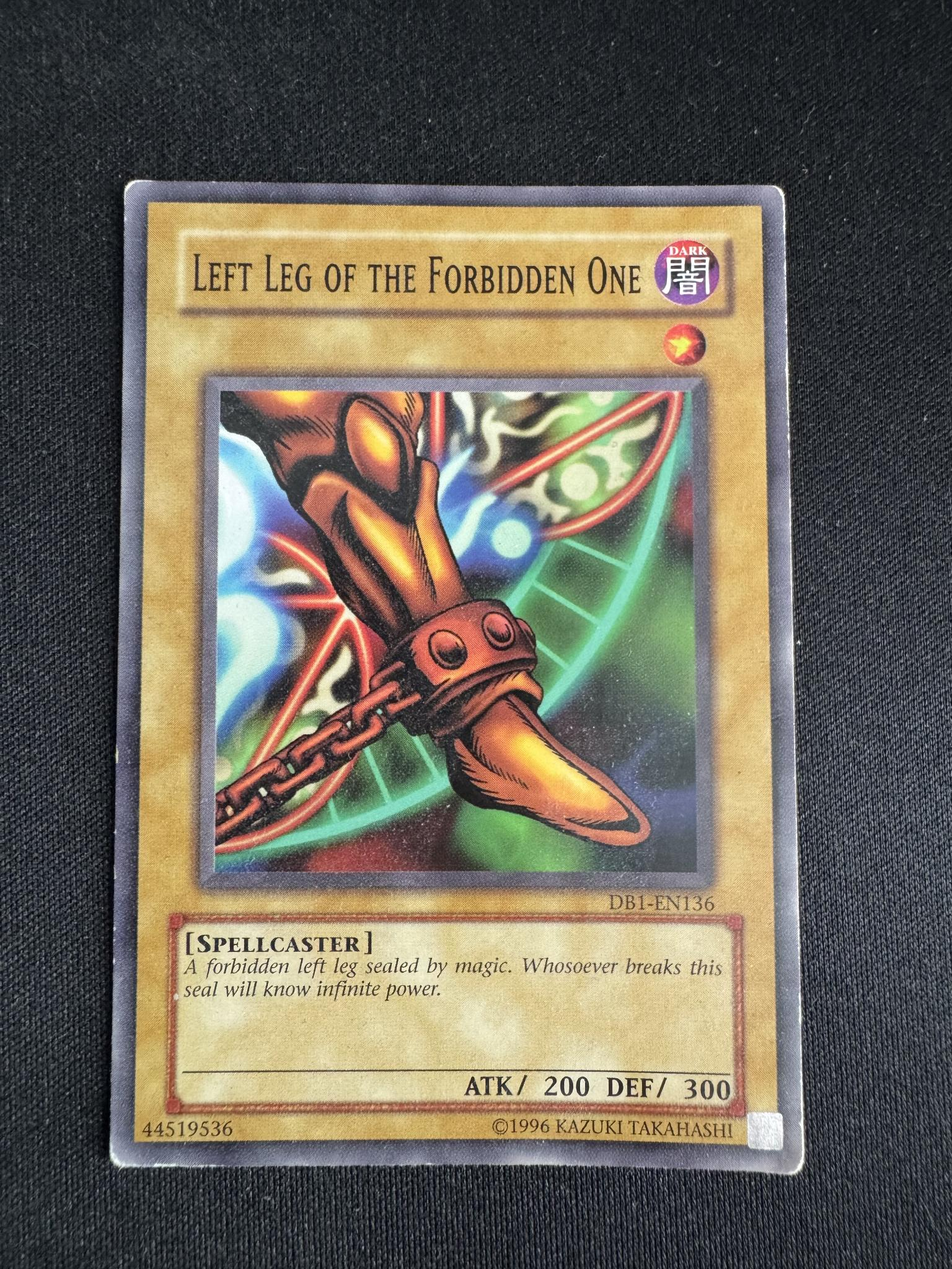card-2UtV: (109, 179, 805, 1175)
